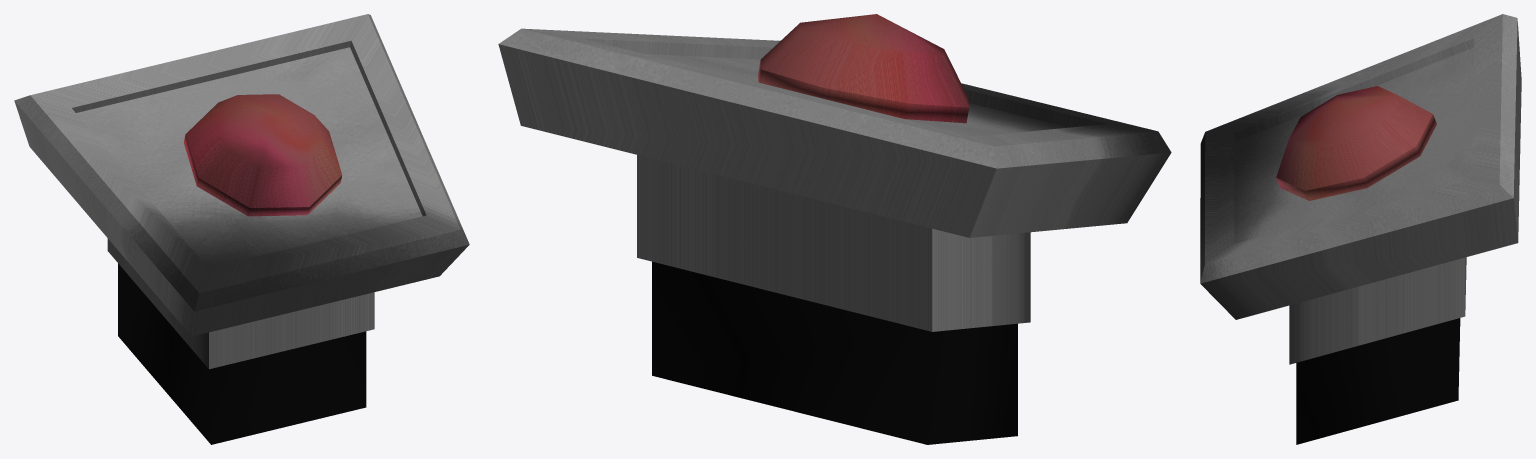
Rendered from meme-factory-red-button-art.glb.
3 renders of one model, left to right at view 1: azimuth 30°, elevation 25°; view 2: azimuth 150°, elevation 25°; view 3: azimuth 270°, elevation 25°, orthographic. The views are drawn at different scales.
Parts seen in each view (by area): view 1: MemeFactory_RedButton_Art; view 2: MemeFactory_RedButton_Art; view 3: MemeFactory_RedButton_Art.
Boxes of the visible parts, x1,y1,x2,y2 form: MemeFactory_RedButton_Art: [14, 14, 469, 444]; MemeFactory_RedButton_Art: [498, 14, 1171, 444]; MemeFactory_RedButton_Art: [1200, 14, 1521, 444].
Size of the model in its own units: 1.43 by 1.15 by 1.08.
Materials: 3 (3 with a texture image).
